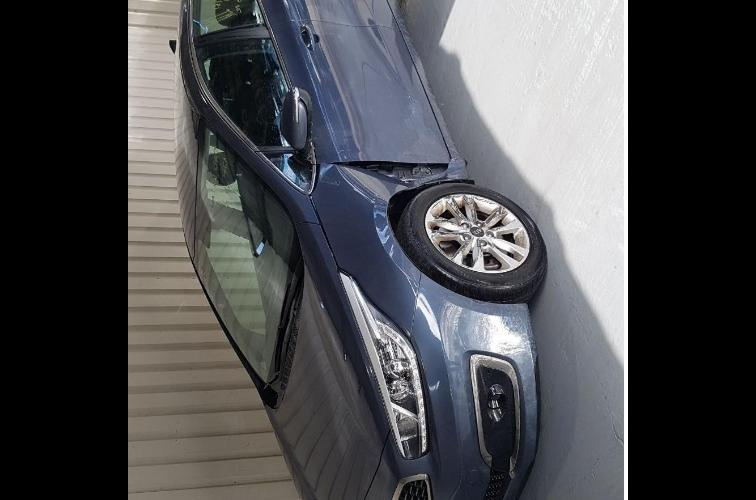Broken part: (327, 158, 456, 186)
Cracked: (190, 0, 265, 36)
Dent: (337, 159, 470, 199)
Missing part: (195, 37, 290, 145)
